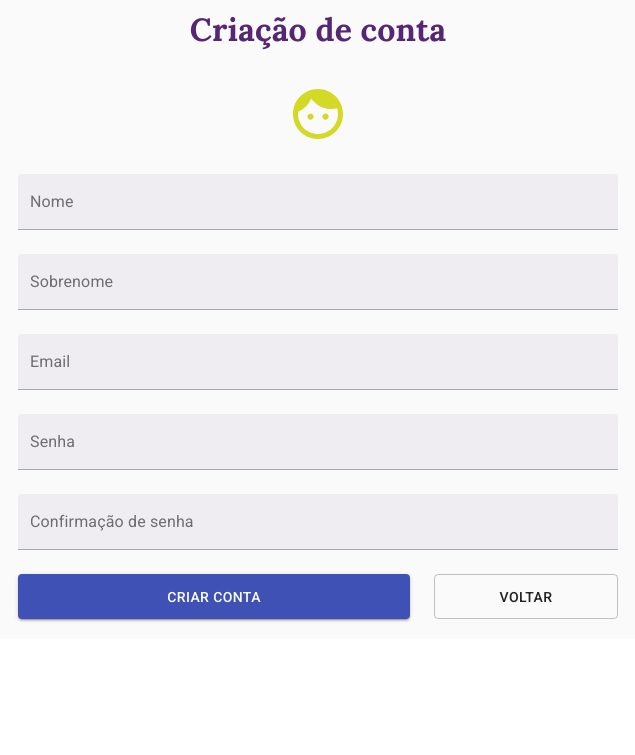
Test case: should show a error label when click in 'Criar Conta' button and fill a invalid email
The image size is (635, 755).
In the field with id "register-user-email": coordinates (318, 362) [18,334,618,390], type "renatop@"
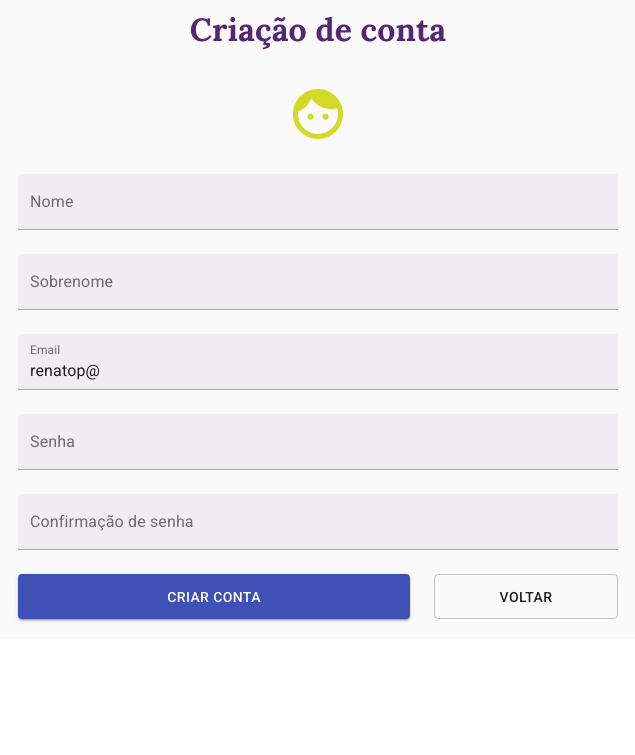
Click the button with id "register-button": coordinates (214, 597) [18,574,410,619]
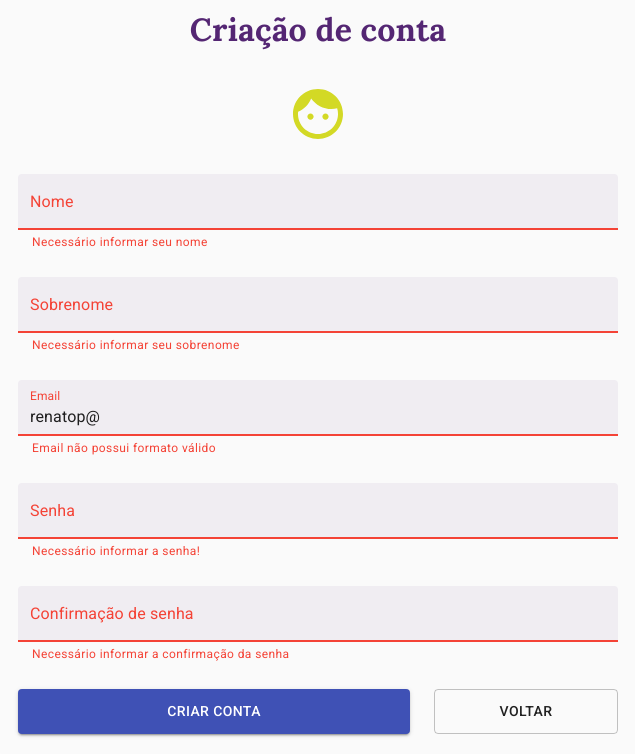
Expected: the text "Email não possui formato válido" is shown, [32,441,216,455]
